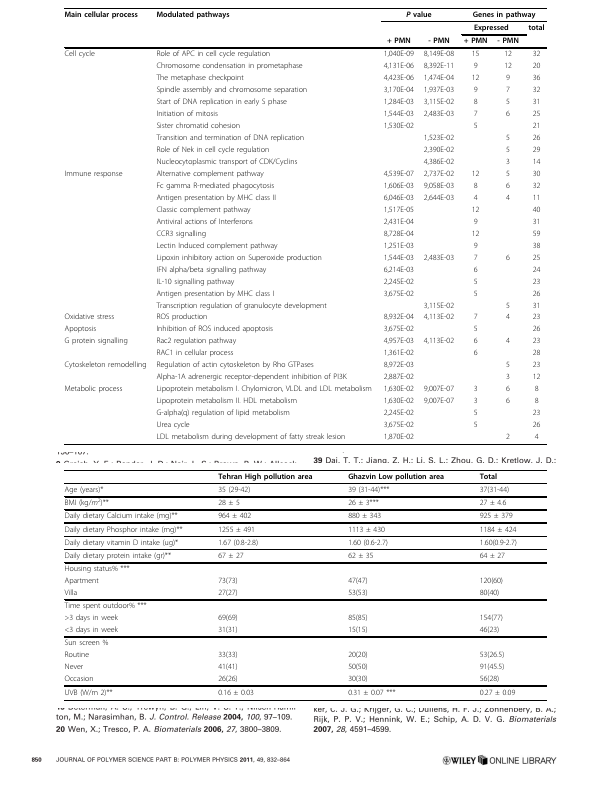borderless: (63, 6, 547, 444), (63, 468, 547, 700)
cell: (155, 384, 373, 394), (155, 372, 348, 382), (155, 432, 346, 442), (155, 360, 315, 370), (155, 301, 328, 310), (155, 85, 308, 95), (155, 253, 323, 262), (155, 133, 305, 143), (155, 157, 298, 167), (155, 396, 298, 406), (155, 408, 291, 418), (155, 62, 304, 71), (155, 97, 288, 107), (155, 193, 277, 203), (155, 181, 275, 191), (155, 145, 270, 155), (155, 241, 278, 250), (155, 169, 265, 179), (64, 525, 184, 534), (64, 551, 172, 561), (155, 289, 275, 298), (155, 325, 274, 334), (155, 50, 271, 59), (64, 512, 179, 521), (64, 538, 179, 547), (155, 265, 267, 274), (155, 205, 251, 215), (155, 73, 245, 83), (155, 217, 254, 226), (347, 472, 445, 481), (217, 472, 313, 481), (155, 121, 241, 131), (63, 360, 148, 370), (155, 336, 237, 346), (155, 348, 234, 358), (64, 602, 147, 611), (155, 277, 235, 286), (64, 10, 139, 19), (155, 10, 230, 19), (64, 564, 130, 574), (63, 336, 129, 346), (155, 109, 219, 119), (63, 169, 123, 179), (63, 384, 123, 394), (472, 10, 536, 19), (64, 625, 119, 635), (63, 497, 110, 508), (64, 614, 119, 623), (155, 313, 208, 322), (155, 229, 207, 238), (63, 313, 115, 322), (64, 688, 113, 697), (347, 688, 396, 697), (347, 485, 390, 495), (63, 485, 104, 495), (64, 639, 109, 648), (217, 538, 259, 547), (347, 538, 389, 547), (473, 23, 510, 33), (64, 576, 100, 586), (155, 420, 191, 430), (217, 525, 256, 534), (347, 525, 386, 534), (479, 538, 518, 547), (479, 525, 517, 534), (217, 688, 255, 697), (217, 485, 251, 495), (479, 688, 516, 697), (347, 498, 380, 508), (383, 73, 415, 83), (423, 73, 455, 83), (383, 85, 415, 95), (423, 85, 455, 95), (383, 97, 415, 107), (423, 97, 455, 107), (383, 109, 415, 119), (423, 109, 455, 119), (383, 121, 415, 131), (423, 133, 455, 143), (423, 145, 455, 155), (423, 157, 455, 167), (383, 169, 415, 179), (423, 169, 455, 179), (383, 181, 415, 191), (423, 181, 455, 191), (383, 193, 415, 203), (423, 193, 455, 203), (383, 205, 415, 215), (383, 336, 415, 346), (423, 336, 455, 346), (383, 348, 415, 358), (383, 360, 415, 370), (383, 372, 415, 382), (383, 384, 415, 394), (423, 384, 455, 394), (383, 396, 415, 406), (423, 396, 455, 406), (383, 408, 415, 418), (383, 420, 415, 430), (383, 432, 415, 442), (217, 512, 252, 521), (347, 512, 382, 521), (479, 512, 514, 521), (479, 485, 510, 495), (63, 325, 97, 334), (63, 50, 96, 59), (383, 50, 415, 59), (423, 50, 455, 59), (383, 62, 415, 71), (423, 62, 455, 71), (383, 217, 415, 226), (383, 229, 415, 238), (383, 241, 415, 250), (383, 253, 415, 262), (423, 253, 455, 262), (383, 265, 415, 274), (383, 277, 415, 286), (383, 289, 415, 298), (423, 301, 455, 310), (383, 313, 415, 322), (423, 313, 455, 322), (383, 325, 415, 334), (479, 498, 507, 508), (217, 551, 244, 561), (347, 551, 374, 561), (479, 551, 506, 561), (64, 675, 94, 684), (386, 36, 412, 46), (479, 576, 504, 586), (463, 36, 488, 46), (405, 10, 432, 19), (217, 498, 241, 508), (496, 36, 520, 46), (64, 651, 90, 660), (479, 651, 505, 660), (479, 663, 505, 672), (427, 36, 450, 46), (479, 614, 504, 623), (217, 576, 239, 586), (217, 588, 239, 598), (217, 625, 239, 635), (347, 576, 368, 586), (347, 588, 368, 598), (479, 588, 500, 598), (347, 625, 368, 635), (479, 625, 500, 635), (217, 614, 239, 623), (217, 651, 239, 660), (217, 663, 239, 672), (217, 675, 239, 684), (347, 614, 368, 623), (347, 651, 368, 660), (347, 663, 368, 672), (347, 675, 368, 684), (479, 675, 500, 684), (64, 663, 84, 672), (479, 472, 498, 481), (528, 23, 545, 33), (64, 588, 78, 598), (503, 50, 513, 59), (503, 62, 513, 71), (471, 73, 480, 83), (532, 73, 541, 83), (532, 85, 541, 95), (532, 97, 541, 107), (532, 109, 541, 119), (532, 121, 541, 131), (532, 133, 541, 143), (532, 145, 541, 155), (532, 157, 541, 167), (471, 169, 480, 179), (532, 169, 541, 179), (532, 181, 541, 191), (532, 193, 541, 203), (471, 205, 480, 215), (532, 205, 541, 215), (532, 336, 541, 346), (532, 348, 541, 358), (532, 360, 541, 370), (532, 372, 541, 382), (532, 408, 541, 418), (532, 420, 541, 430), (471, 50, 480, 59), (532, 50, 541, 59), (532, 62, 541, 71), (532, 217, 541, 226), (471, 229, 480, 238), (532, 229, 541, 238), (532, 241, 541, 250), (532, 253, 541, 262), (532, 265, 541, 274), (532, 277, 541, 286), (532, 289, 541, 298), (532, 301, 541, 310), (532, 313, 541, 322), (532, 325, 541, 334), (505, 73, 511, 83), (505, 85, 511, 95), (505, 97, 511, 107), (505, 109, 511, 119), (505, 133, 511, 143), (505, 145, 511, 155), (505, 157, 511, 167), (505, 169, 511, 179), (505, 181, 511, 191), (505, 193, 511, 203), (505, 336, 511, 346), (505, 360, 511, 370), (505, 372, 511, 382), (505, 384, 511, 394), (505, 396, 511, 406), (505, 432, 511, 442), (505, 253, 511, 262), (505, 301, 511, 310), (505, 313, 511, 322), (473, 85, 478, 95), (473, 97, 478, 107), (473, 109, 478, 119), (473, 121, 478, 131), (473, 181, 478, 191), (473, 193, 478, 203), (473, 336, 478, 346), (473, 348, 478, 358), (473, 384, 478, 394), (534, 384, 539, 394), (473, 396, 478, 406), (534, 396, 539, 406), (473, 408, 478, 418), (473, 420, 478, 430), (534, 432, 539, 442), (473, 62, 478, 71), (473, 217, 478, 226), (473, 241, 478, 250), (473, 253, 478, 262), (473, 265, 478, 274), (473, 277, 478, 286), (473, 289, 478, 298), (473, 313, 478, 322), (473, 325, 478, 334)
